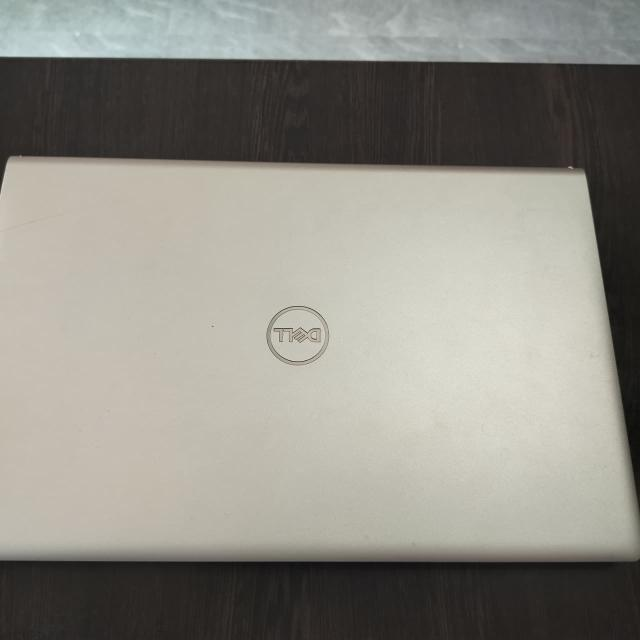laptop: (10, 148, 640, 588)
